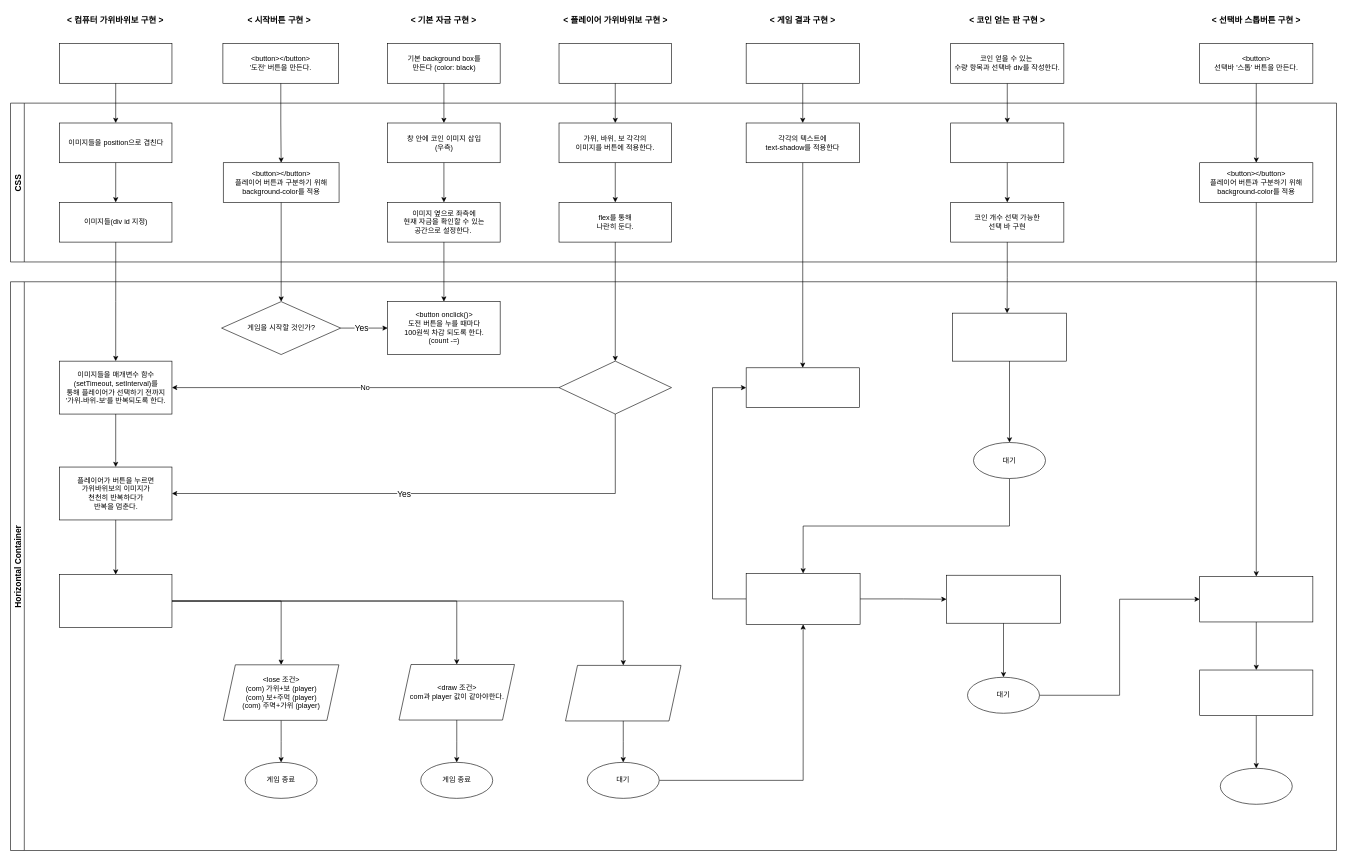
Some shapes in this 1347 by 861 pixel diagram are drawn without their labels. Here are the shapes that lost their labels. From the top down, the centre of each, then its label:
[115,63]: 가위, 바위, 보 이미지를 불러온다
[615,63]: <button></button> '가위','바위','보'에 대한 각각의 버튼을 만든다.
[802,63]: '이겼다 졌다 비겼다'의 결과박스를 만든다.
[1007,142]: 항목 background-color + text color 설정
[1009,337]: 결과값이 나오기전까지 선택바 class 보이지 않도록 한다.
[615,387]: 버튼 눌렀나?
[802,387]: 해당 결과값을 받아 클래스 중 taxt-shadow가 실행되도록 한다.
[115,600]: 플레이어가 누른 버튼과 컴퓨터가 선택한 결과와 비교한다.
[803,598]: 비교 결과값 확인
[1003,599]: 선택바가 좌우로 반복되도록 한다.
[1256,599]: <button onclick()> 스톱 버튼을 누르면 선택바가 멈추도록 한다.
[623,693]: <win 조건> lose 조건의 반대
[1256,692]: 선택바가 멈춘 수량만큼 코인 개수가 늘어난다.
[1256,786]: 게임종료
